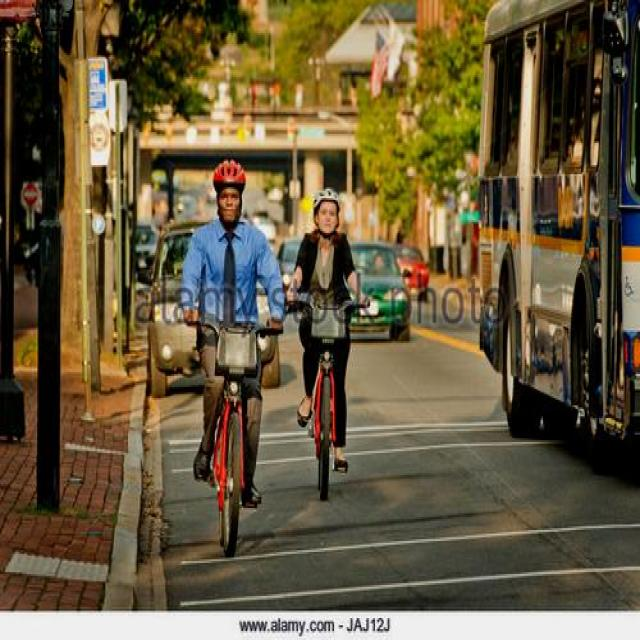bikerider: (172, 147, 282, 552), (269, 178, 366, 490)
